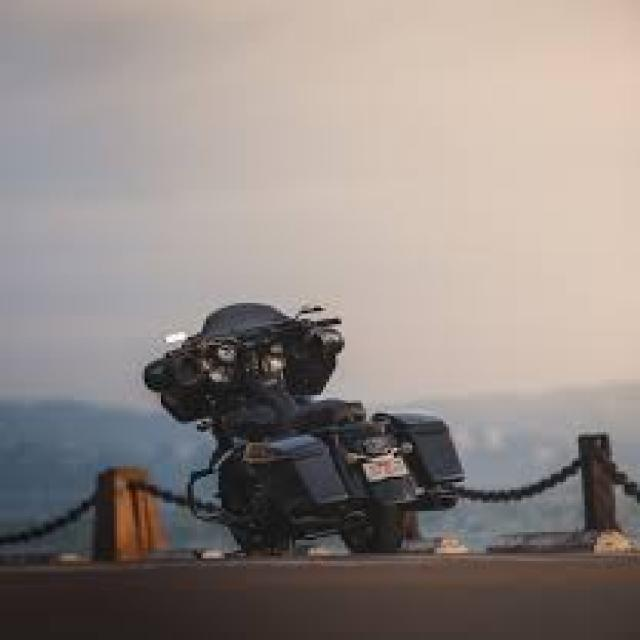Bike: (146, 293, 462, 555)
